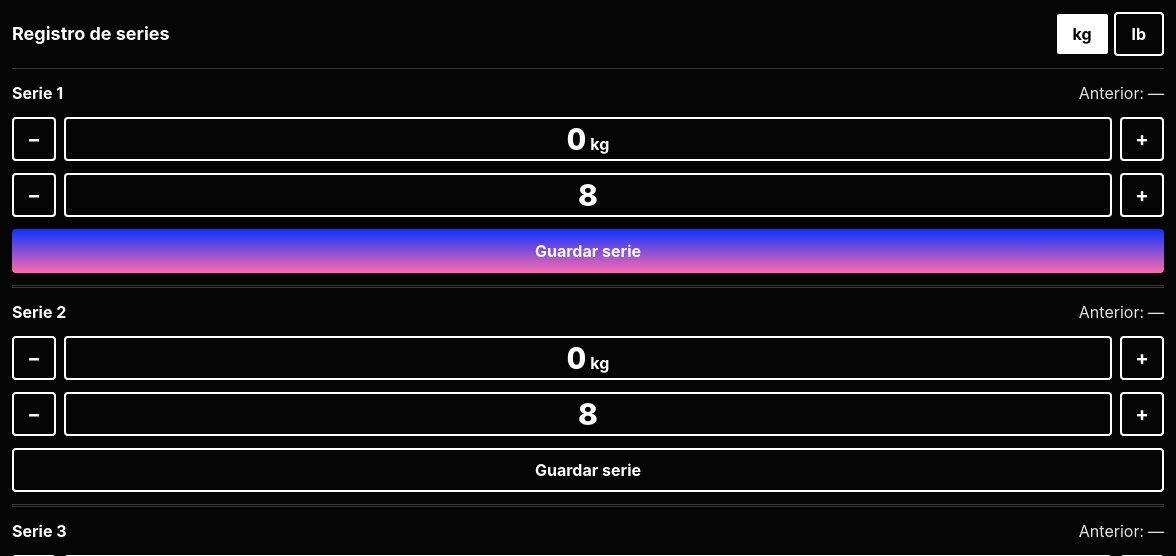
Scenario: LoggingSection — unidad de peso (08 R1, R4, R6, R7, R11, R14, R15) › R7: en kg un peso fuera de pasos de 0.5 sigue bloqueando el guardado (R15)
Expected: the heading "Serie 1" is shown, [12,81,63,105]
Click the button with aria-label "Peso serie 1" at (588, 139), box [64,117,1112,161]
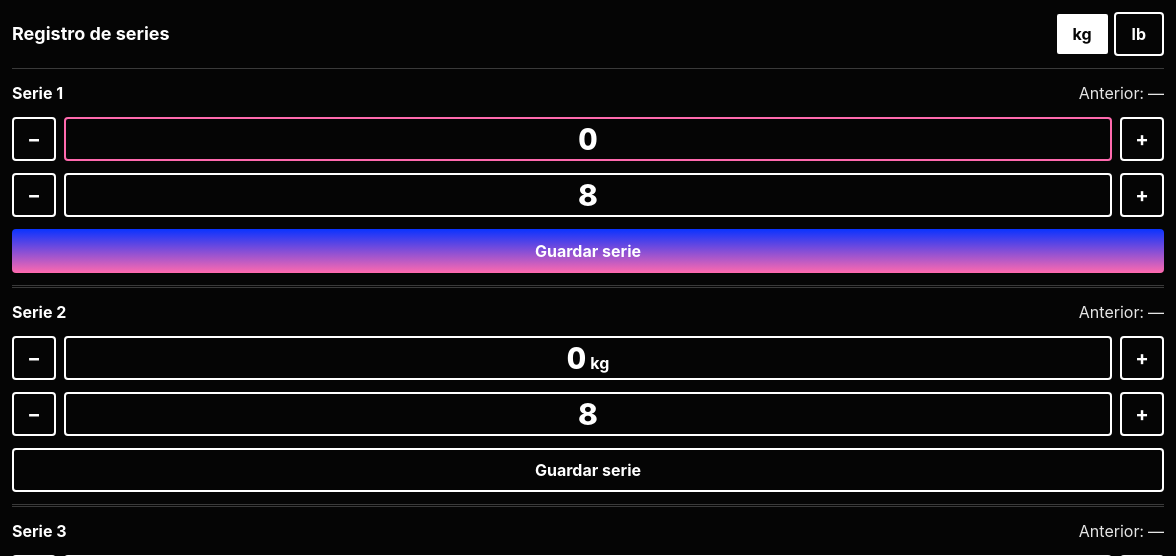
Replace the text in the field named "Peso serie 1" with "22.3" at (588, 139), box [64,117,1112,161]
Then press Enter
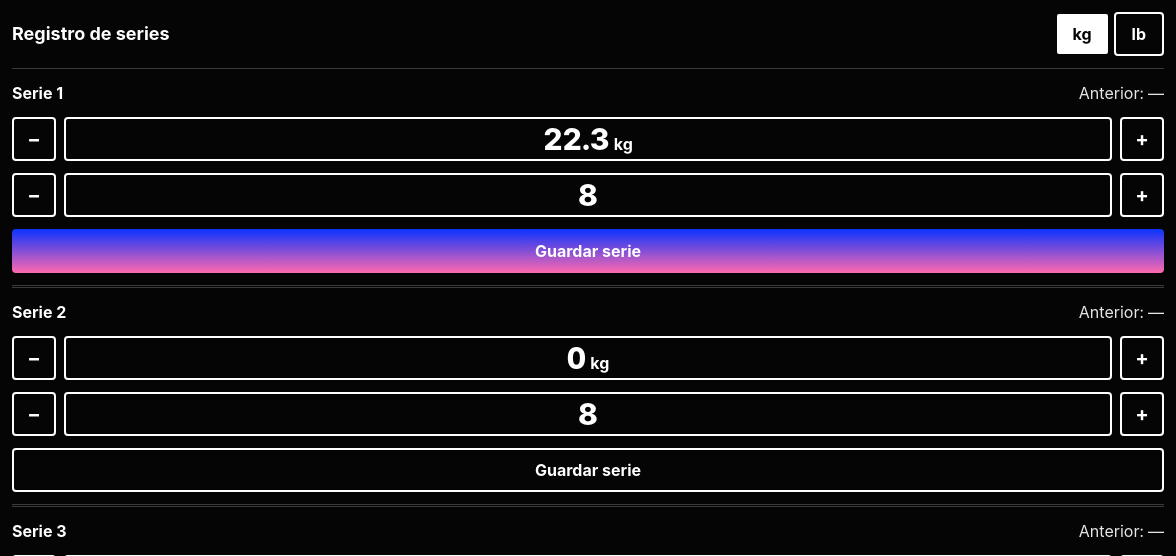
Click the 1st button "Guardar serie" at (588, 251), box [12,229,1164,273]
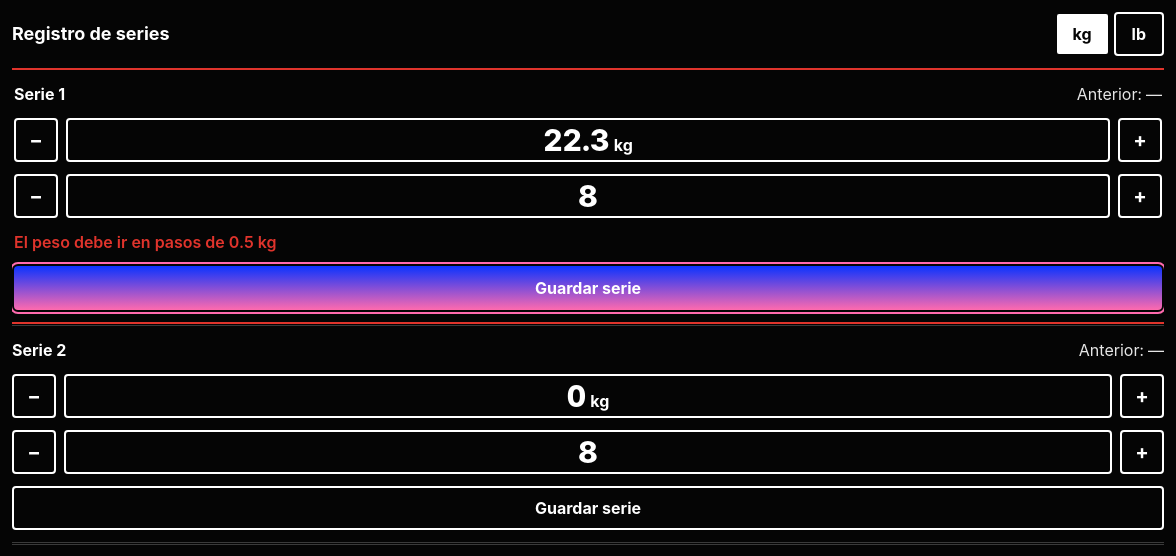
Result: the message reads "El peso debe ir en pasos de 0.5 kg" at [14,232,276,252]
